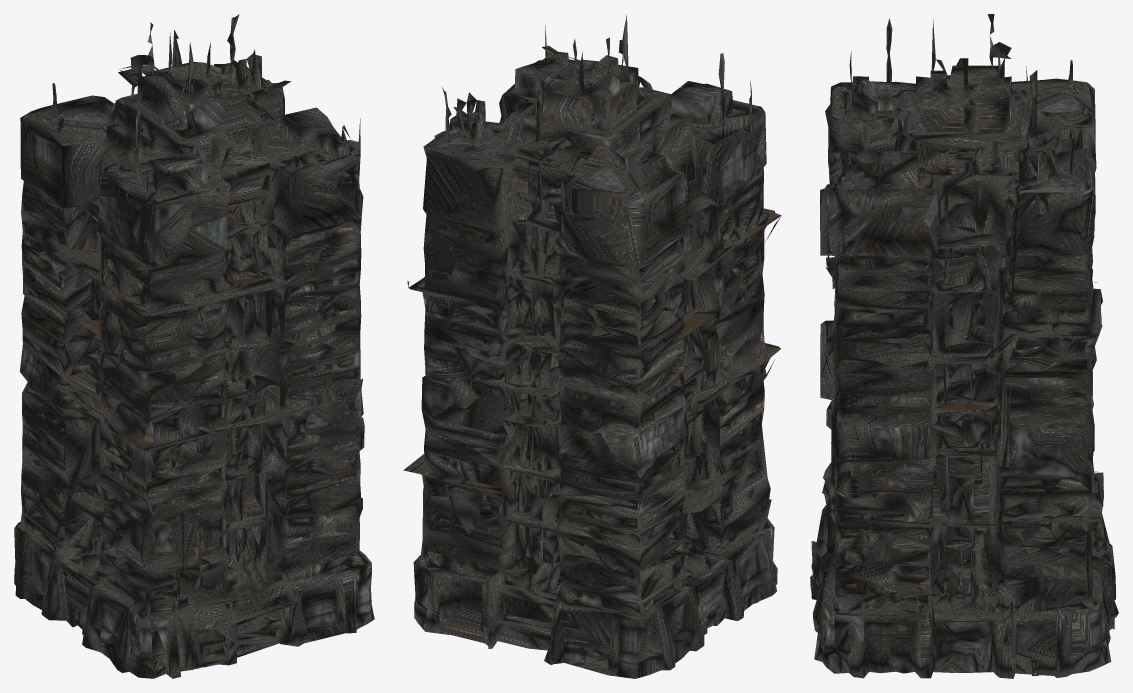
File: fondorblock.lod1.glb
3 views of the same model, side by side, from view 1: azimuth 30°, elevation 25°; view 2: azimuth 150°, elevation 25°; view 3: azimuth 270°, elevation 25° (orthographic). The views are drawn at different scales.
Parts seen in each view (by area): view 1: fondorblock-centred; view 2: fondorblock-centred; view 3: fondorblock-centred.
Boxes of the visible parts, x1,y1,x2,y2 form: fondorblock-centred: [14, 14, 374, 678]; fondorblock-centred: [403, 15, 781, 678]; fondorblock-centred: [810, 14, 1118, 678].
Bounding box in the file's own units: 41.89 × 88.98 × 42.31.
1 material, 1 textured.
